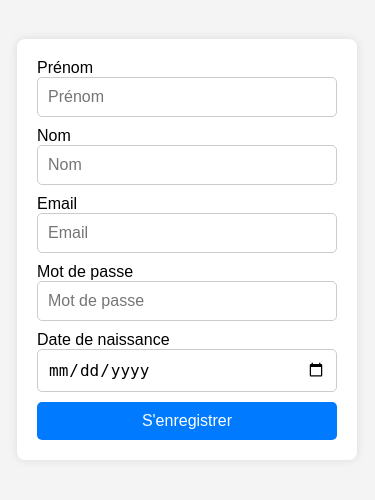
Test: RegistrationForm › erreur si champs vides
This screenshot has width=375, height=500.
Click the button "S'enregistrer": (187, 420) [37,402,337,440]
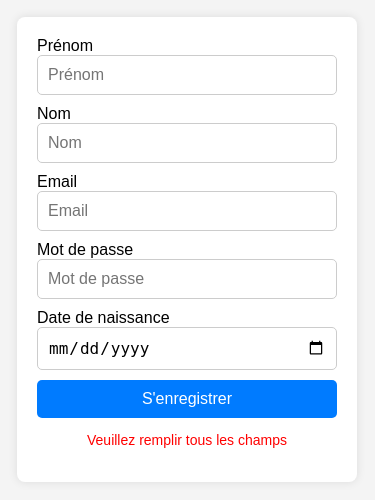
expect the text with test id "error-message" reads "Veuillez remplir tous les champs": met, box [87,432,287,448]
